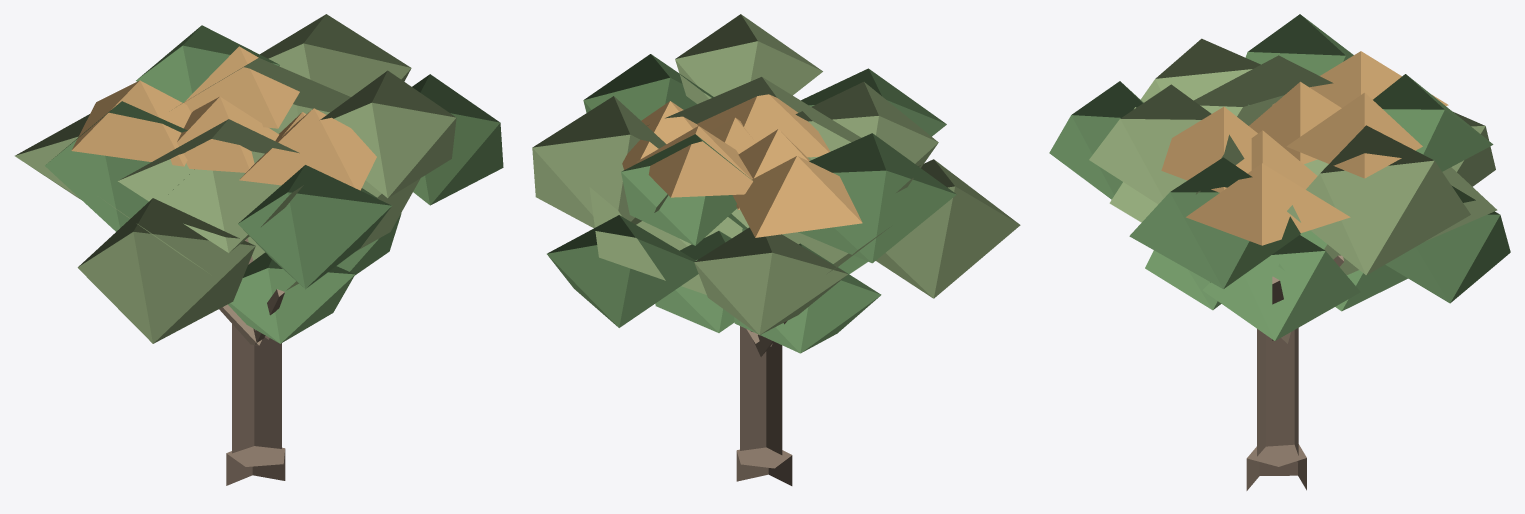
File: tree.trop.flame_tree__summer.glb
3 renders of one model, left to right at view 1: azimuth 30°, elevation 25°; view 2: azimuth 150°, elevation 25°; view 3: azimuth 270°, elevation 25°, orthographic. The views are drawn at different scales.
Visible parts, largest first — view 1: tree.trop.flame_tree__summer; view 2: tree.trop.flame_tree__summer; view 3: tree.trop.flame_tree__summer.
Boxes of the visible parts, bbox=[...] form: tree.trop.flame_tree__summer: bbox=[15, 14, 503, 485]; tree.trop.flame_tree__summer: bbox=[532, 14, 1020, 485]; tree.trop.flame_tree__summer: bbox=[1049, 14, 1510, 490].
Size of the model in its own units: 12.01 by 11.93 by 11.36.
